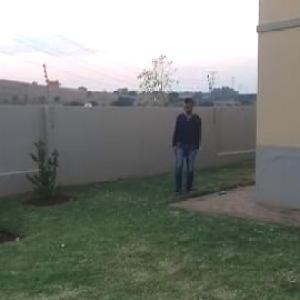follow: (171, 94, 206, 195)
